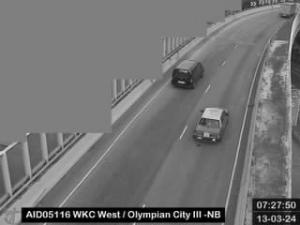truck: (280, 3, 296, 17)
vehicle: (194, 105, 230, 143), (172, 60, 205, 88)
